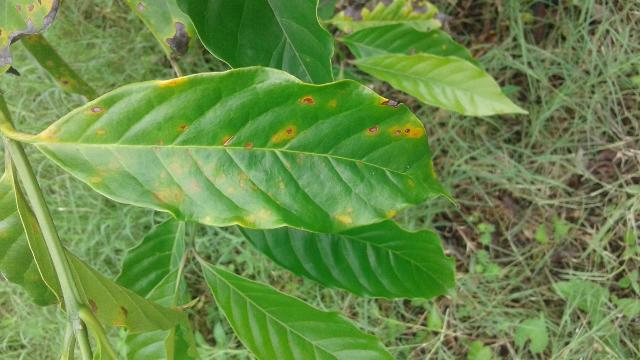rust_level_3: (34, 66, 460, 235)
